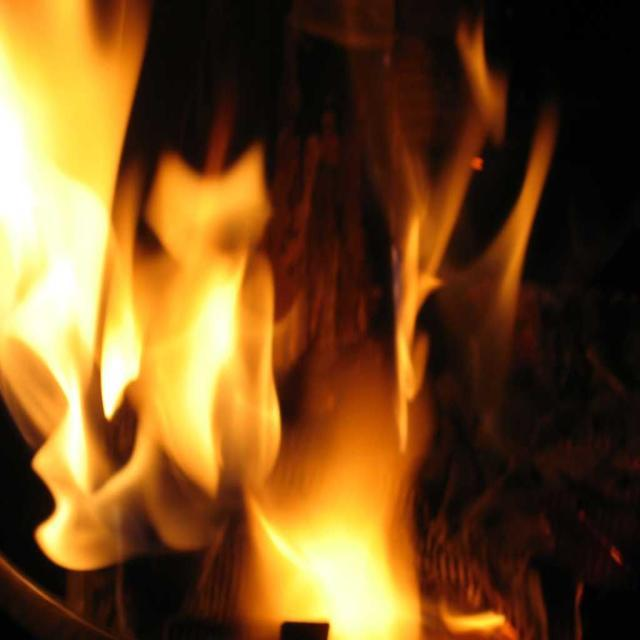Fire: (9, 8, 524, 618)
